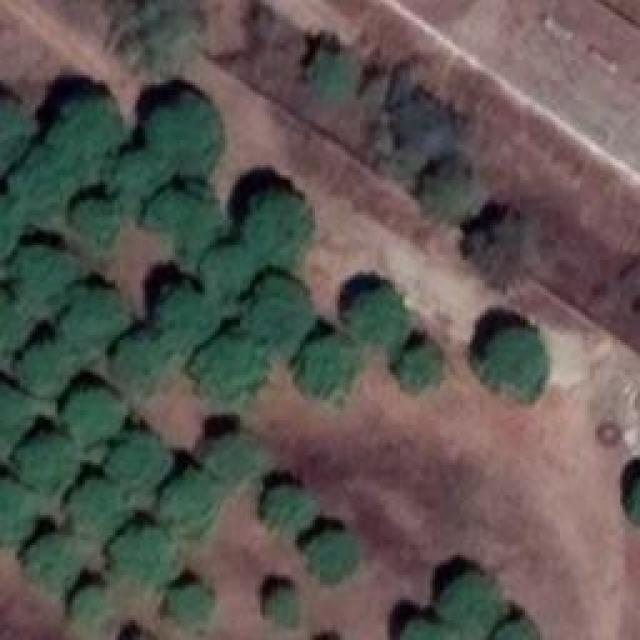Tree: (145, 90, 227, 171), (475, 325, 550, 405), (115, 0, 197, 73), (45, 88, 123, 162), (473, 215, 546, 289), (383, 98, 458, 170), (52, 285, 135, 349), (185, 330, 258, 402), (143, 185, 217, 255), (240, 277, 314, 347), (8, 245, 77, 317), (237, 195, 309, 262), (342, 280, 413, 346), (298, 335, 361, 407), (432, 573, 503, 636), (105, 528, 176, 590), (150, 473, 219, 536), (153, 285, 219, 349), (8, 153, 75, 215), (198, 423, 264, 485), (58, 483, 124, 545), (25, 533, 85, 599), (17, 426, 75, 494), (298, 523, 360, 586), (115, 333, 176, 397), (103, 147, 169, 206), (105, 437, 172, 495), (416, 165, 474, 224), (67, 387, 126, 444), (305, 45, 365, 101), (70, 188, 126, 247), (162, 572, 218, 630), (23, 340, 76, 397), (200, 245, 253, 299), (0, 475, 36, 551), (0, 383, 37, 456), (255, 485, 310, 532), (258, 585, 309, 634), (68, 592, 121, 639), (392, 333, 438, 385), (0, 98, 31, 165), (493, 615, 543, 640), (398, 617, 449, 639)
